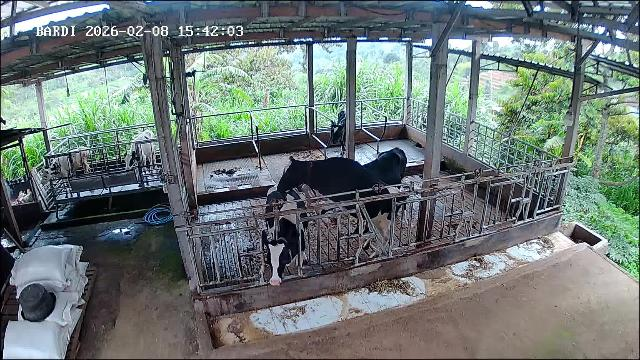mounting: (276, 154, 403, 253)
